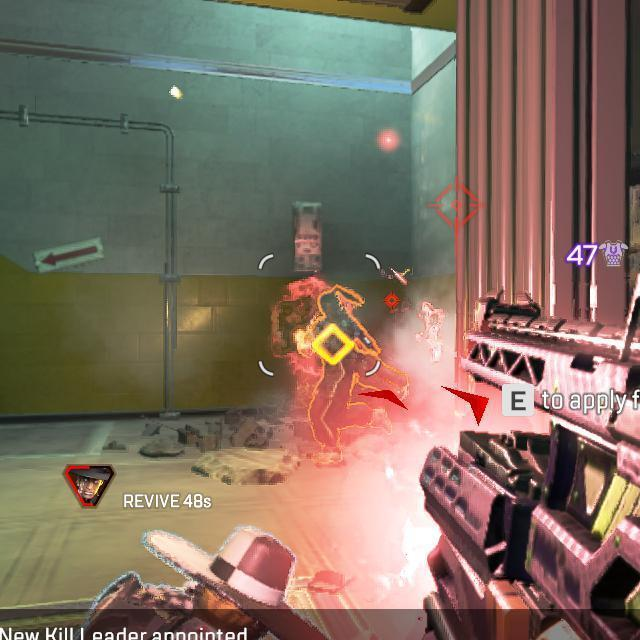avatar: (300, 284, 392, 465)
object: (312, 323, 354, 366)
